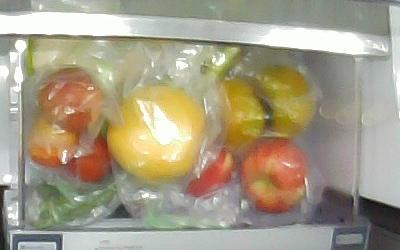apple_vinyl: (239, 139, 310, 213), (186, 148, 238, 197)
grapefruit_vinyl: (106, 87, 204, 180)
persimmon_vinyl: (252, 63, 316, 138), (203, 78, 267, 147)
prune_vinyl: (37, 65, 100, 131), (63, 133, 112, 183), (31, 117, 78, 168)
